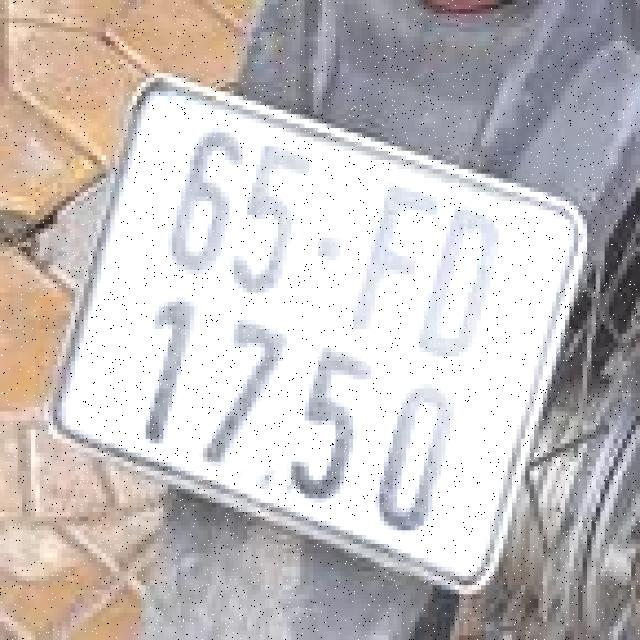0: (360, 362, 473, 543)
1: (119, 287, 218, 446)
5: (216, 130, 329, 307), (276, 338, 383, 510)
6: (158, 117, 255, 282)
7: (182, 304, 302, 483)
D: (405, 190, 528, 377)
F: (339, 168, 454, 347)
